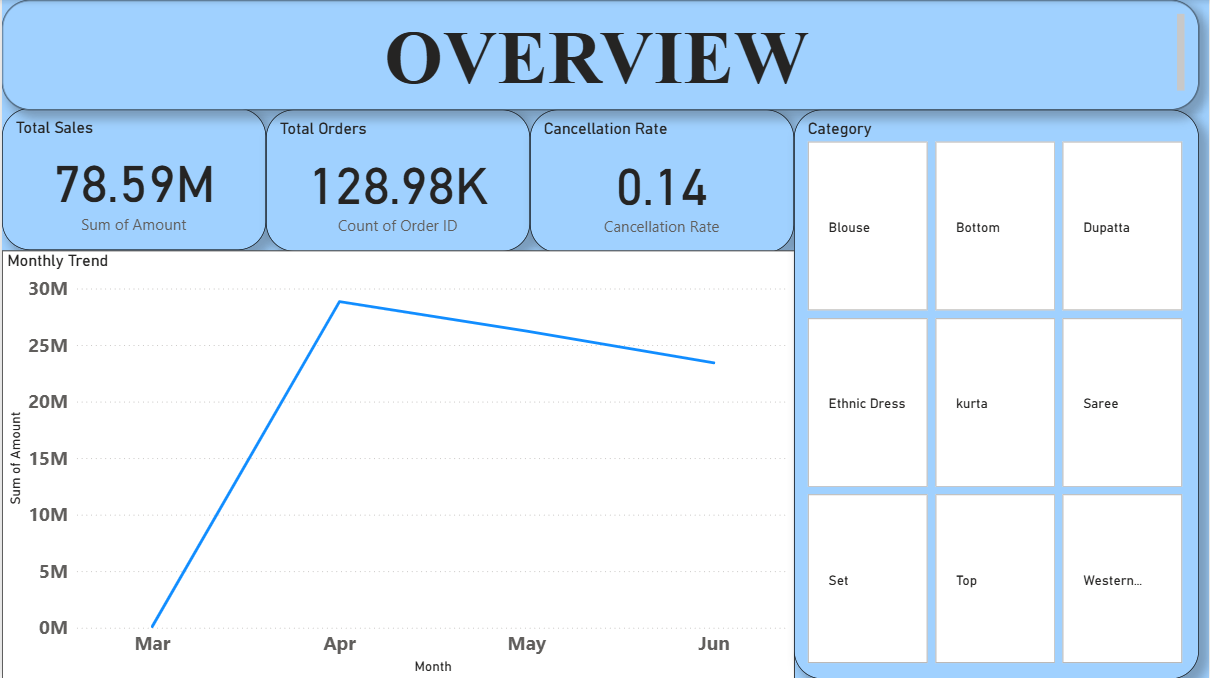

What the dashboard file says about the page in this screenshot:
{"tool":"powerbi","page":{"name":"OVERVIEW","canvas":[1280,720],"ordinal":0},"visuals":[{"type":"card","title":"Total Sales","fields":{"Values":["Sum(Amazon Sale Report.Amount)"]},"box":[0,115,280.1,150.6],"z":2},{"type":"card","title":"Total Orders","fields":{"Values":["CountNonNull(Amazon Sale Report.Order ID)"]},"box":[280.1,116.6,280.1,150.6],"z":3},{"type":"card","title":"Cancellation Rate","fields":{"Values":["Amazon Sale Report.Cancellation Rate"]},"box":[560.3,116.6,280.1,152.2],"z":4},{"type":"lineChart","title":"Monthly Trend","fields":{"Category":["Amazon Sale Report.Month"],"Y":["Sum(Amazon Sale Report.Amount)"]},"box":[0,265.6,840.4,455],"z":5},{"type":"advancedSlicerVisual","fields":{"Values":["Amazon Sale Report.Category"]},"box":[840.4,116.6,429.1,604],"z":6},{"type":"textbox","box":[0,0,1269.5,116.6],"z":7}]}

Visuals, with their boxes in screenshot pixels (x1, y1, x2, y2), scaled from the page's 1280x720 canvas onto the 1210x678 screenshot:
"Total Sales" card: region(0, 108, 265, 250)
"Total Orders" card: region(265, 110, 530, 252)
"Cancellation Rate" card: region(530, 110, 794, 253)
"Monthly Trend" lineChart: region(0, 250, 794, 677)
advancedSlicerVisual - Amazon Sale Report.Category: region(794, 110, 1200, 677)
textbox: region(0, 0, 1200, 110)
